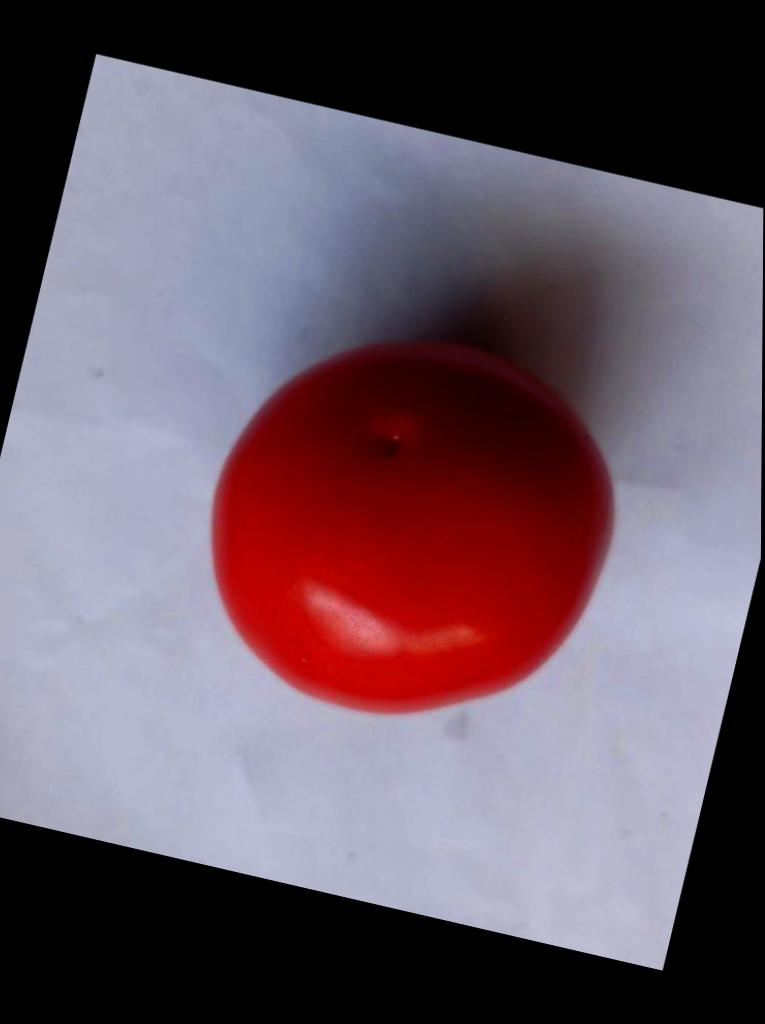tomato: (212, 342, 609, 710)
